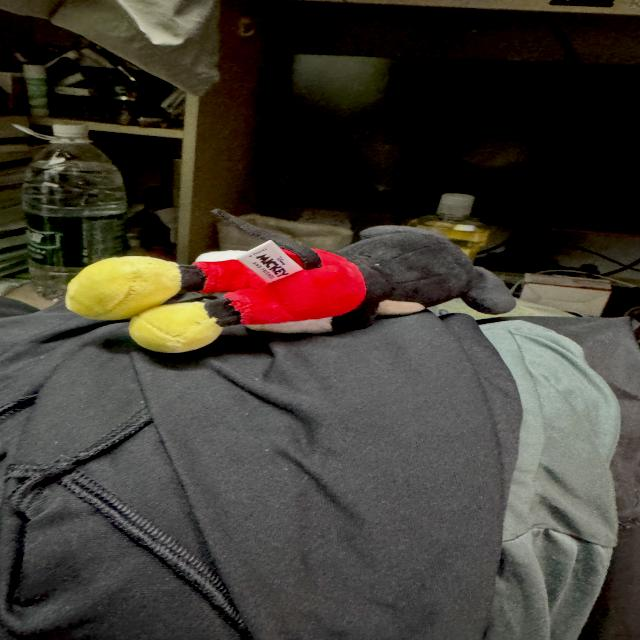mickey: (67, 210, 515, 352)
